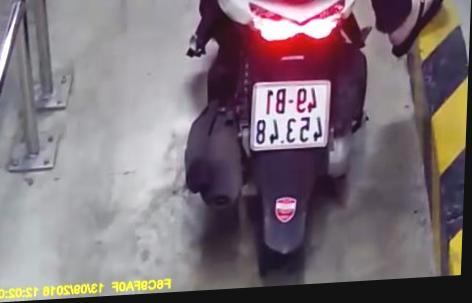License_Plate: (243, 74, 336, 157)
